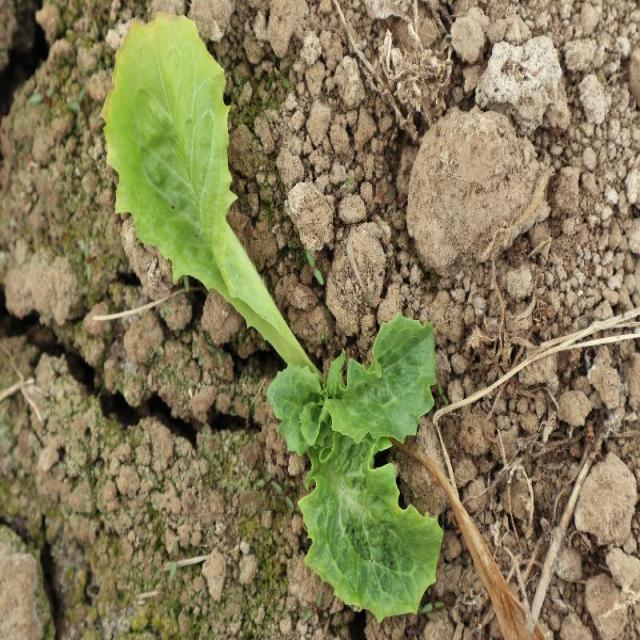crop: (100, 14, 443, 622)
